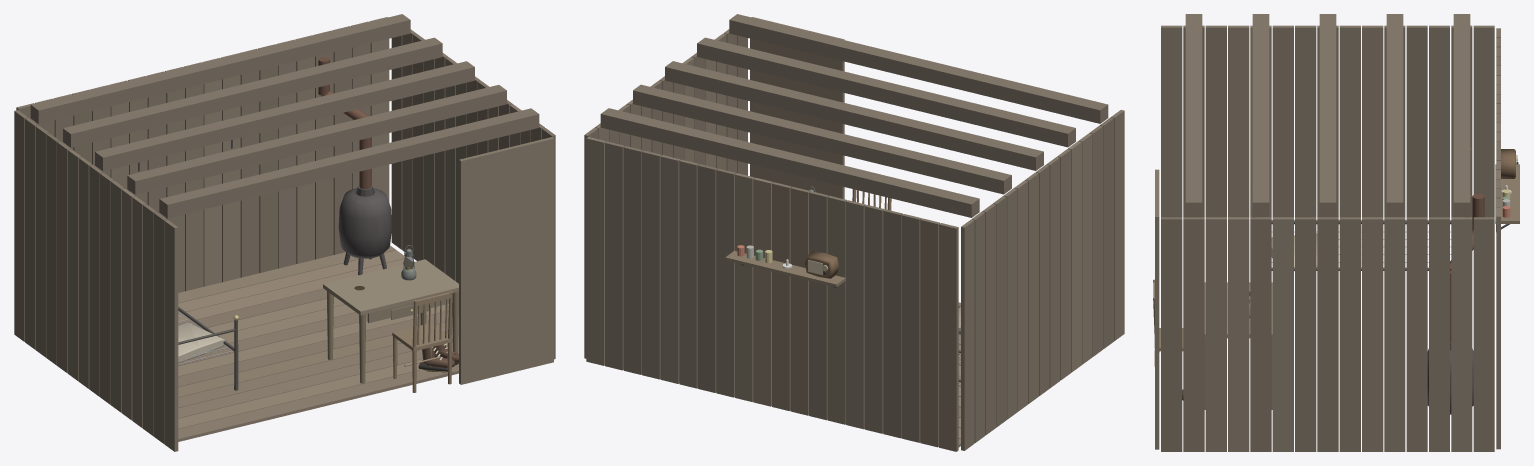
The model's file is cabin_interior_variant_a.glb.
The picture shows the model from 3 angles, left to right: view 1: azimuth 30°, elevation 25°; view 2: azimuth 150°, elevation 25°; view 3: azimuth 270°, elevation 25°; orthographic projection. The views are drawn at different scales.
Visible parts, largest first — view 1: body; view 2: body; view 3: body.
Boxes of the visible parts, box(x1,y1,x2,y2) form: body: box(14, 14, 555, 451); body: box(584, 14, 1124, 451); body: box(1153, 14, 1519, 451).
Bounding box in the file's own units: 4.1 × 2.45 × 3.29.
